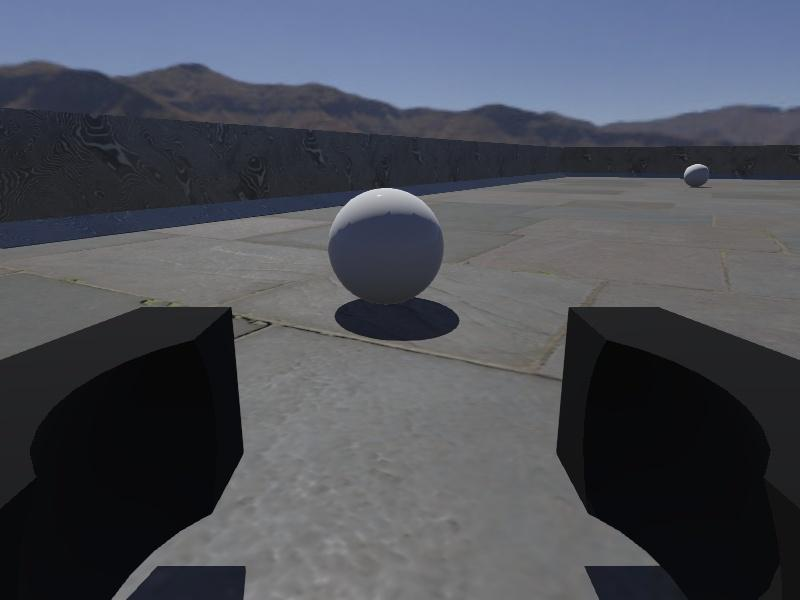white ball: (328, 187, 445, 307), (683, 162, 711, 189)
